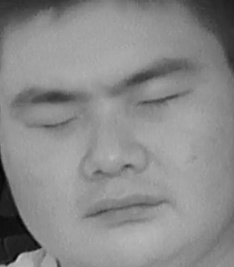blink: (136, 82, 194, 115), (30, 108, 79, 137)
mouth: (83, 188, 168, 231)
